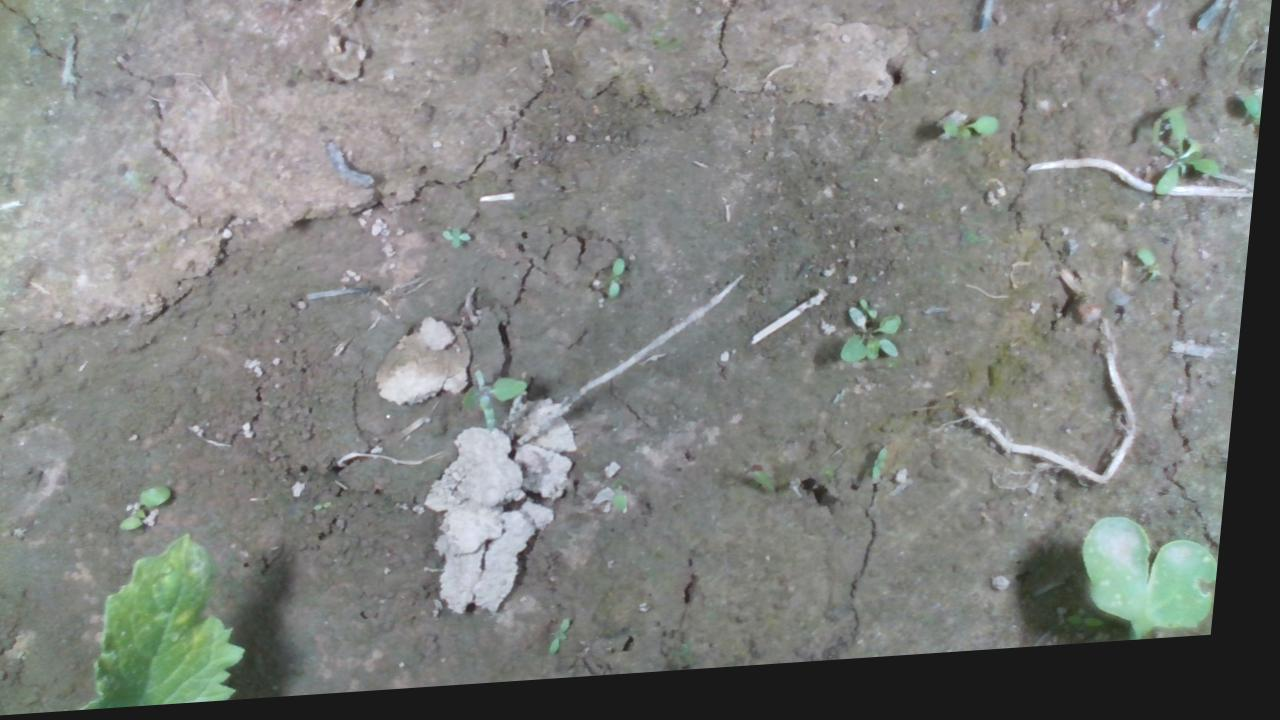weed: (127, 485, 183, 532), (941, 126, 1004, 154), (442, 231, 480, 256), (879, 455, 901, 496), (611, 264, 631, 306), (561, 625, 584, 661)
